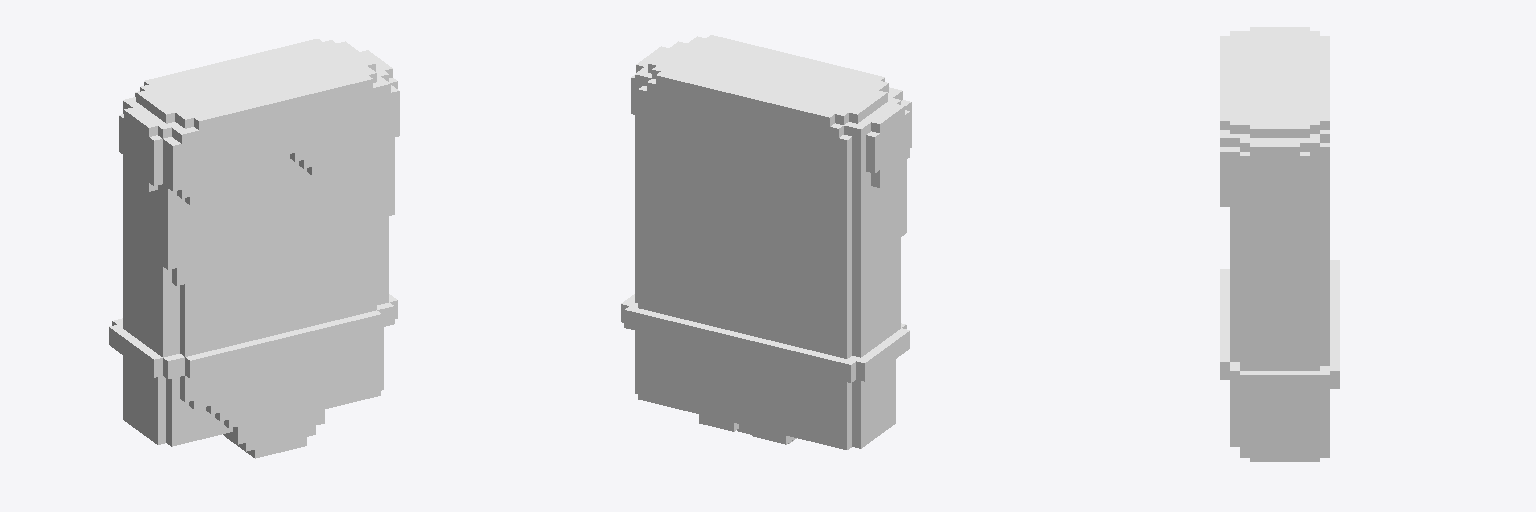
File: Player0-8.obj
3 views of the same model, side by side, from view 1: azimuth 30°, elevation 25°; view 2: azimuth 150°, elevation 25°; view 3: azimuth 270°, elevation 25° (orthographic).
Visible parts, largest first — view 1: object 1; view 2: object 1; view 3: object 1.
Part boxes in pixels (x1,y1,x2,y2): object 1: (109, 39, 399, 458); object 1: (621, 35, 911, 449); object 1: (1220, 27, 1339, 461).
Size of the model in its own units: 2.8 by 3.9 by 1.2.